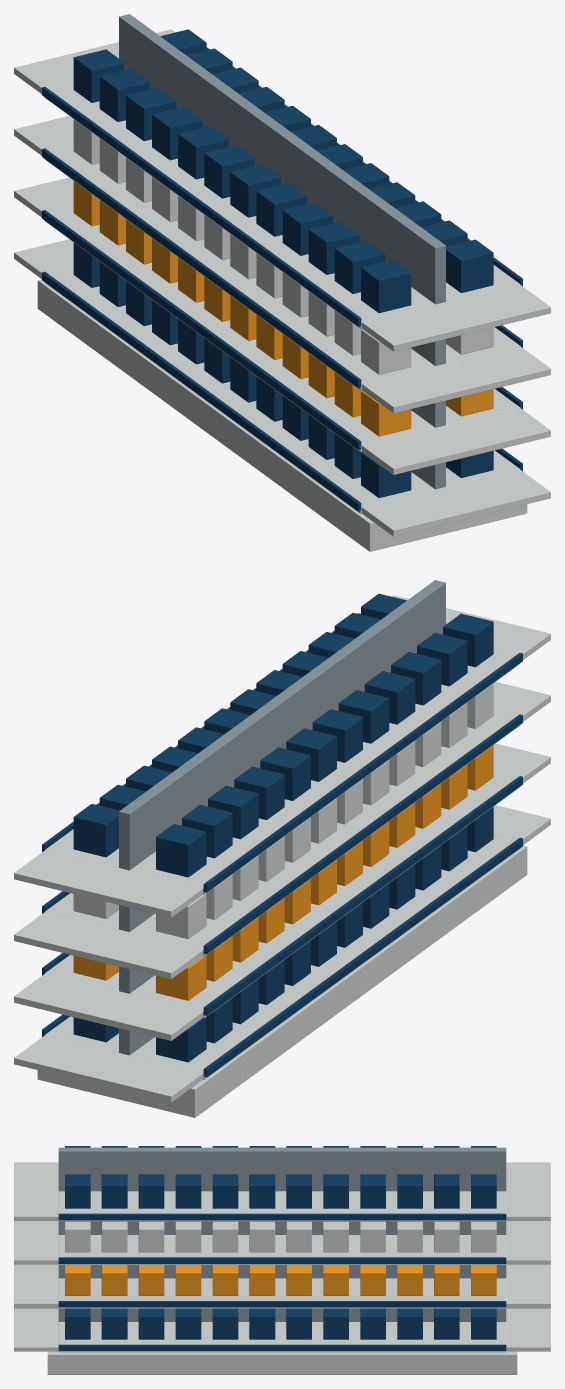
3 renders of one model, top to bottom at view 1: azimuth 30°, elevation 25°; view 2: azimuth 150°, elevation 25°; view 3: azimuth 270°, elevation 25°, orthographic. The views are drawn at different scales.
Parts seen in each view (by area): view 1: STOCK_CartonRow.003, GONDOLA_CentralPanel, GONDOLA_Plinth, STOCK_CartonRow, STOCK_CartonRow.002, STOCK_CartonRow.001, STOCK_CartonRow.007, SHELF_Deck.001, SHELF_Deck.003, SHELF_Deck, SHELF_Deck.002, ENDCAP_Shelf.001 (+18 smaller); view 2: STOCK_CartonRow.003, GONDOLA_CentralPanel, GONDOLA_Plinth, STOCK_CartonRow.001, STOCK_CartonRow.002, STOCK_CartonRow, STOCK_CartonRow.007, SHELF_Deck.002, SHELF_Deck, SHELF_Deck.001, SHELF_Deck.003, ENDCAP_Shelf.005 (+18 smaller); view 3: GONDOLA_CentralPanel, STOCK_CartonRow.007, GONDOLA_Plinth, STOCK_CartonRow.004, STOCK_CartonRow.006, STOCK_CartonRow.005, SHELF_Deck.004, SHELF_Deck.007, SHELF_Deck.005, SHELF_Deck.006, PRICE_Rail.007, PRICE_Rail.006 (+11 smaller).
Part boxes in pixels (box(x1,y1,x2,y2)): STOCK_CartonRow.003: box(73, 49, 411, 312); GONDOLA_CentralPanel: box(119, 14, 445, 489); GONDOLA_Plinth: box(37, 279, 527, 551); STOCK_CartonRow: box(73, 242, 411, 497); STOCK_CartonRow.002: box(73, 119, 411, 374); STOCK_CartonRow.001: box(73, 181, 411, 436); STOCK_CartonRow.007: box(160, 29, 493, 292); SHELF_Deck.001: box(44, 207, 434, 452); SHELF_Deck.003: box(44, 84, 434, 328); SHELF_Deck: box(44, 269, 434, 513); SHELF_Deck.002: box(44, 145, 434, 390); ENDCAP_Shelf.001: box(362, 407, 550, 474); STOCK_CartonRow.003: box(156, 613, 493, 877); GONDOLA_CentralPanel: box(119, 580, 445, 1055); GONDOLA_Plinth: box(37, 845, 527, 1117); STOCK_CartonRow.001: box(156, 745, 493, 1000); STOCK_CartonRow.002: box(156, 683, 493, 938); STOCK_CartonRow: box(156, 807, 493, 1062); STOCK_CartonRow.007: box(73, 593, 406, 857); SHELF_Deck.002: box(130, 712, 520, 956); SHELF_Deck: box(130, 835, 520, 1079); SHELF_Deck.001: box(130, 774, 520, 1018); SHELF_Deck.003: box(130, 650, 520, 894); ENDCAP_Shelf.005: box(14, 973, 202, 1040); GONDOLA_CentralPanel: box(58, 1147, 506, 1321); STOCK_CartonRow.007: box(65, 1174, 496, 1208); GONDOLA_Plinth: box(47, 1351, 517, 1374); STOCK_CartonRow.004: box(65, 1308, 496, 1339); STOCK_CartonRow.006: box(65, 1221, 496, 1252); STOCK_CartonRow.005: box(65, 1265, 496, 1295); SHELF_Deck.004: box(58, 1322, 506, 1352); SHELF_Deck.007: box(58, 1191, 506, 1221); SHELF_Deck.005: box(58, 1278, 506, 1308); SHELF_Deck.006: box(58, 1235, 506, 1264); PRICE_Rail.007: box(58, 1213, 506, 1220); PRICE_Rail.006: box(58, 1257, 506, 1263).
Size of the model in its own units: 1.2 by 1.95 by 4.8.
